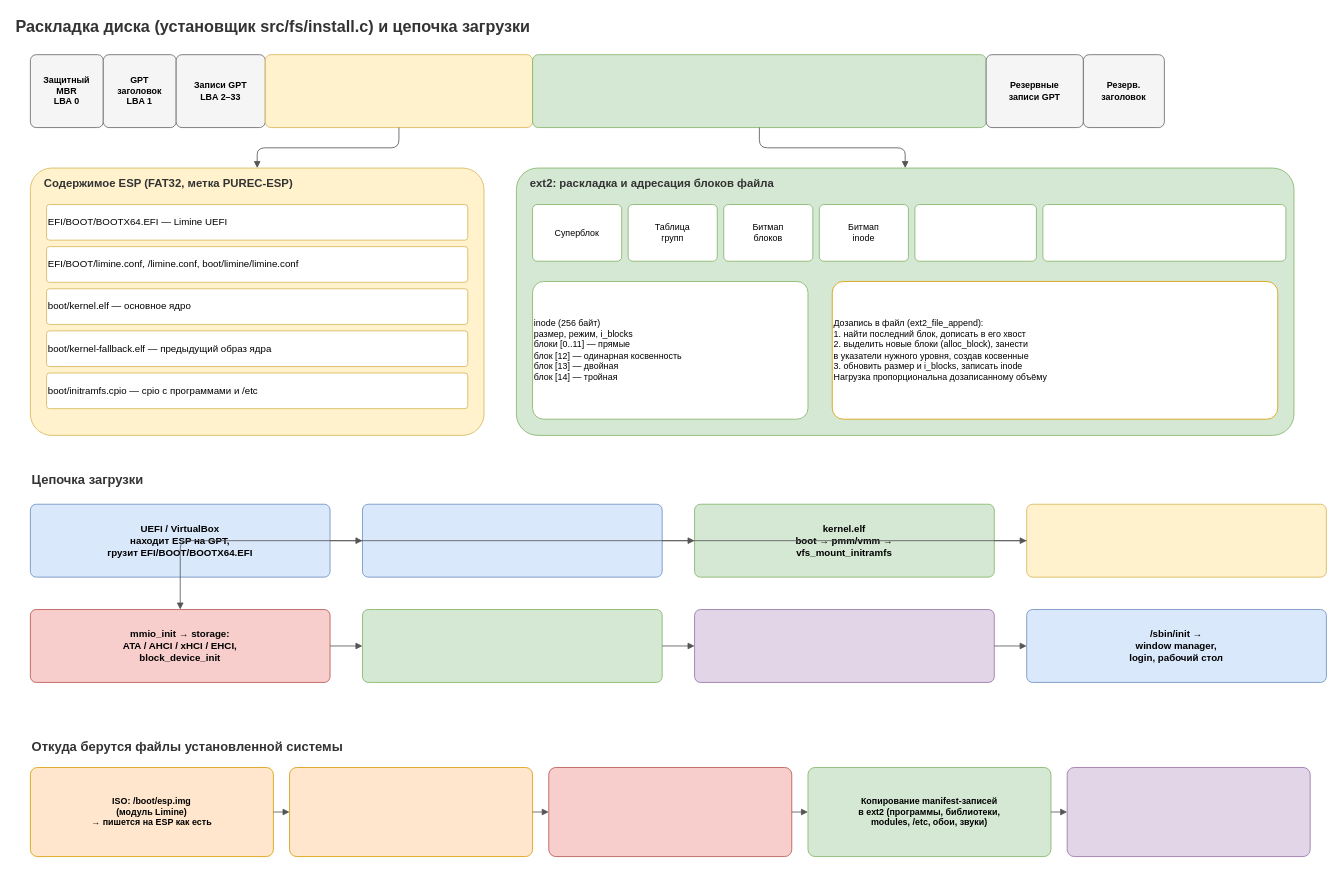
Image size: 1341x871. Some labels were removed from this diagram. Here are the shapes that lost their labels. From the top down, the centre of each, then its label:
At (398,91): "ESP FAT32 с LBA 2048 ≈ 88 МиБ (размер образа esp.img, округлённый до 1 МиБ)".
At (759,91): "Раздел PureC System ext2 (тип Basic Data) весь остаток диска".
At (975,232): "Таблица inode".
At (1164,232): "Блоки данных ... (повторяется для групп)".
At (512,540): "Limine читает limine.conf, грузит ядро и модули".
At (1176,540): "vfs_selftest проверка /, /dev, /proc, /sys, /tmp, /var, чтение /etc/hostname".
At (512,645): "ext2_init находит раздел Basic Data, корень / переключается на ext2".
At (844,645): "devman_autoload грузит /lib/modules/*.so (e1000, pcnet, ar9285 …)".
At (411,812): "ISO: /boot/initramfs.cpio содержимое по assets/manifest.txt".
At (670,812): "Установщик installer_install_device: GPT → ESP → mkfs ext2".
At (1188,812): "Прошивки *.ucode из модулей Limine → /lib/firmware/Intel/wifi".
